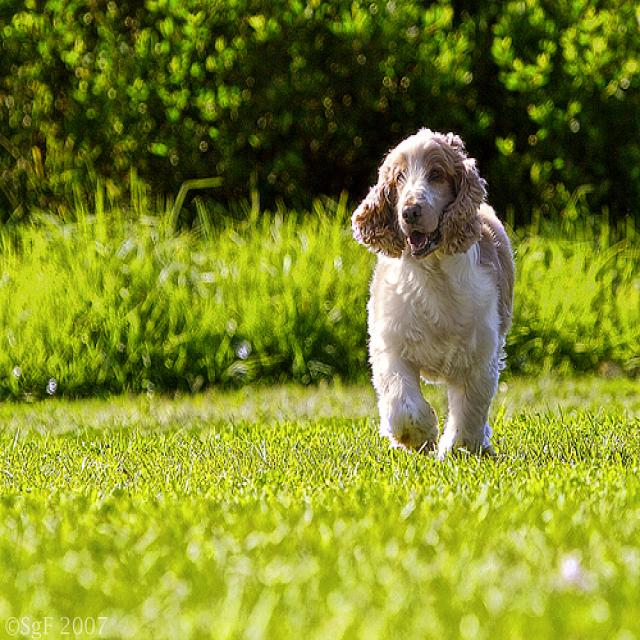dog-english_cocker_spaniel: (342, 115, 527, 465)
